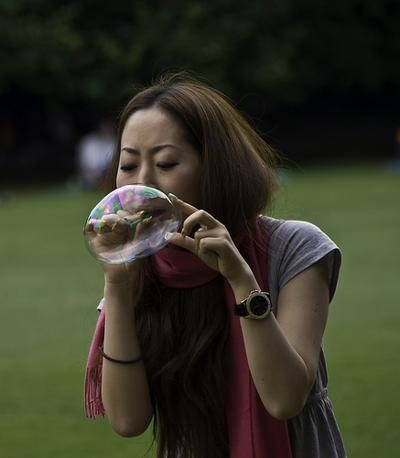person: (82, 80, 346, 456)
